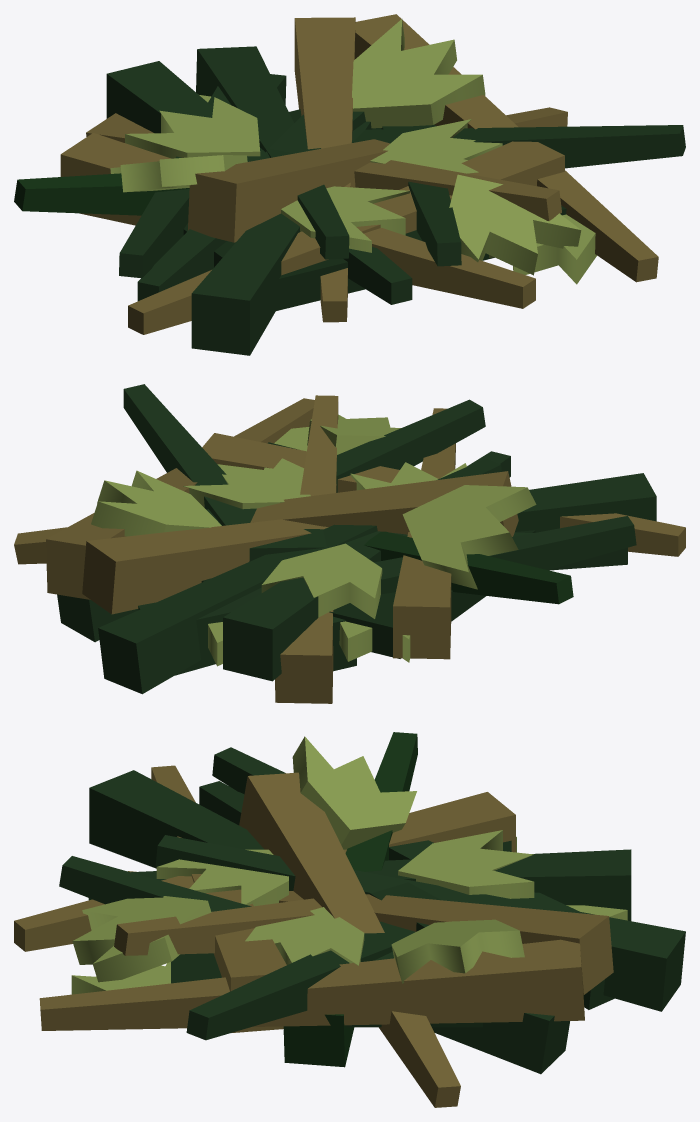
Rendered from lisce1.fbx.
The picture shows the model from 3 angles, top to bottom: view 1: azimuth 30°, elevation 25°; view 2: azimuth 150°, elevation 25°; view 3: azimuth 270°, elevation 25°; orthographic projection. The views are drawn at different scales.
Visible parts, largest first — view 1: pCube31; view 2: pCube31; view 3: pCube31.
Part boxes in pixels (x1,y1,x2,y2): pCube31: (14,14,685,355); pCube31: (14,384,685,703); pCube31: (14,732,685,1107).
Bounding box in the file's own units: 0.00454 × 0.00114 × 0.00456.
